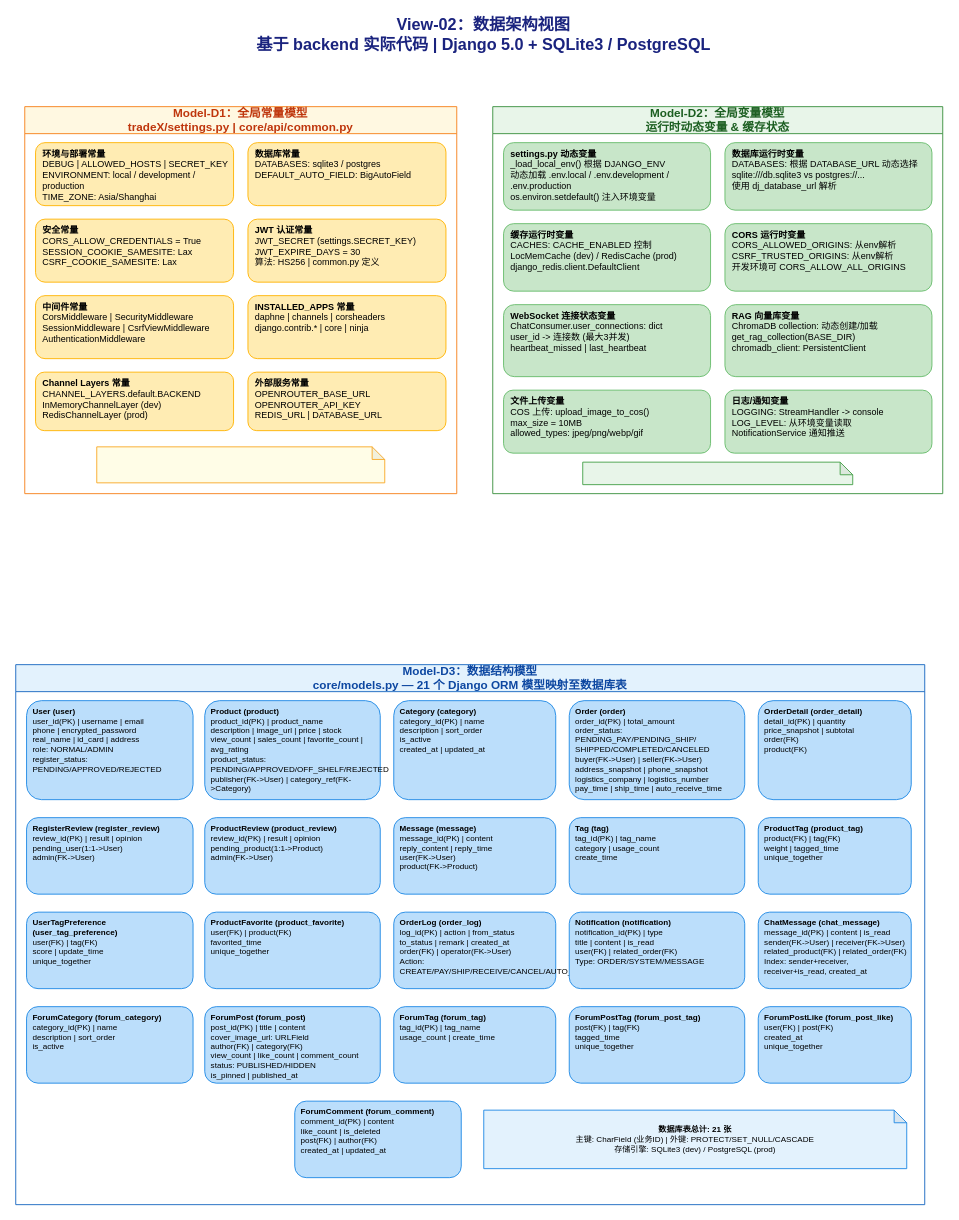
The diagram is 959 pixels wide and 1220 high, and some of its shapes have lost their labels. The shapes that lost their labels are listed below. From the top down, each one's centre as x and y in pixels, then its label:
At pixel 240 464: "特性标签 由环境变量 .env 文件加载 启动时只读，不可变 (immutable)".
At pixel 717 473: "特性标签 生命周期: 请求级 / 进程级 可变 (mutable)，运行时可修改".
